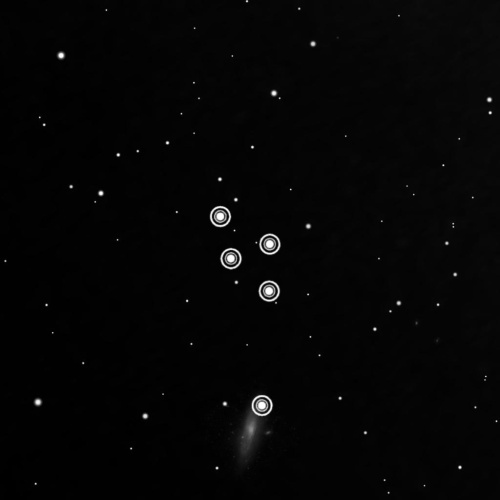delphinus: (205, 201, 285, 424)
